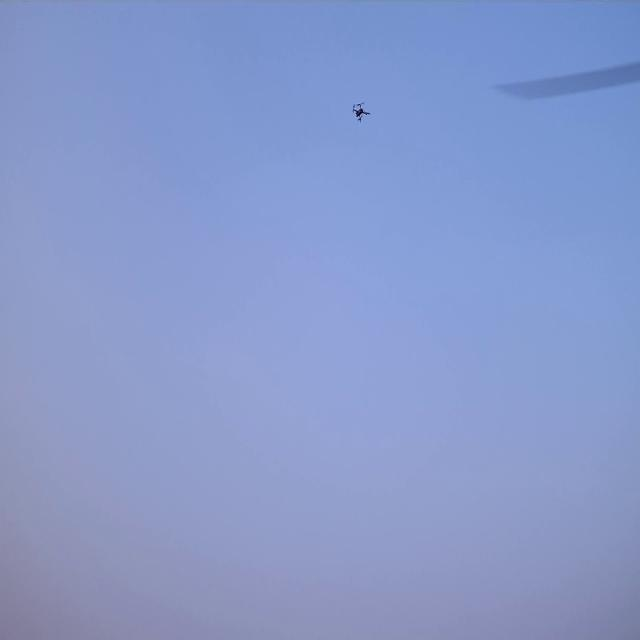UAV: (353, 104, 369, 122)
